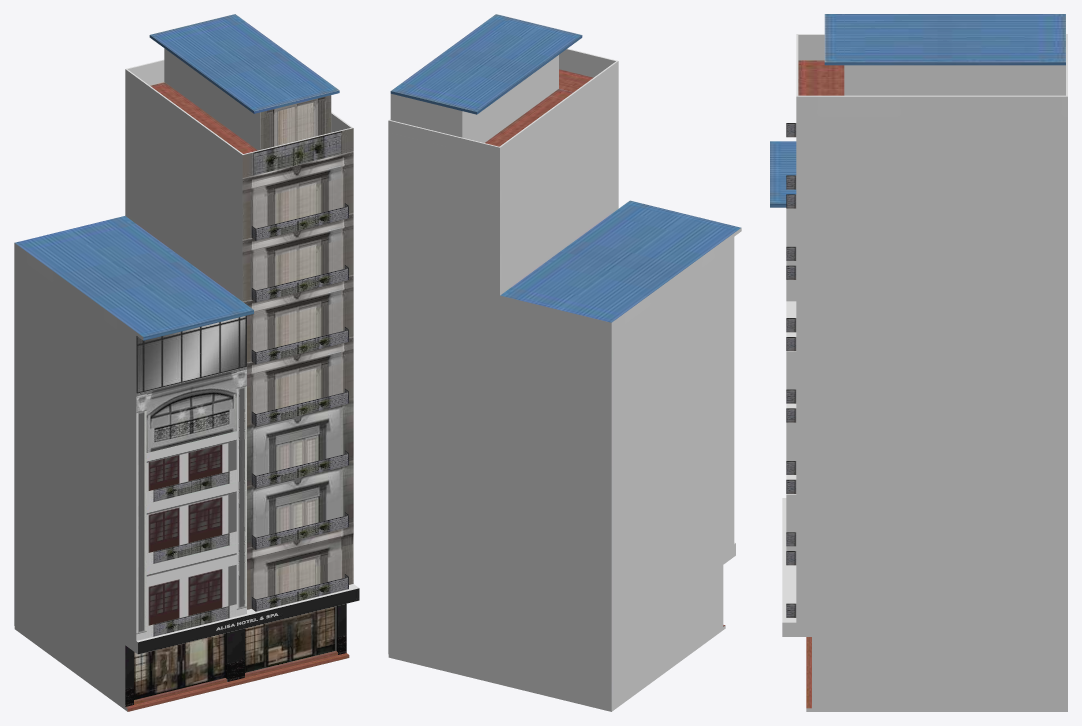
3 views of the same model, side by side, from view 1: azimuth 30°, elevation 25°; view 2: azimuth 150°, elevation 25°; view 3: azimuth 270°, elevation 25° (orthographic). The views are drawn at different scales.
Visible parts, largest first — view 1: HN080___Alisa_Hotel___Spa; view 2: HN080___Alisa_Hotel___Spa; view 3: HN080___Alisa_Hotel___Spa.
Part boxes in pixels (x1=…): HN080___Alisa_Hotel___Spa: x1=14, y1=14, x2=359, y2=711; HN080___Alisa_Hotel___Spa: x1=388, y1=14, x2=741, y2=711; HN080___Alisa_Hotel___Spa: x1=770, y1=14, x2=1067, y2=711.
Bounding box in the file's own units: 15 × 36.38 × 15.13.
Materials: 1 (1 with a texture image).
